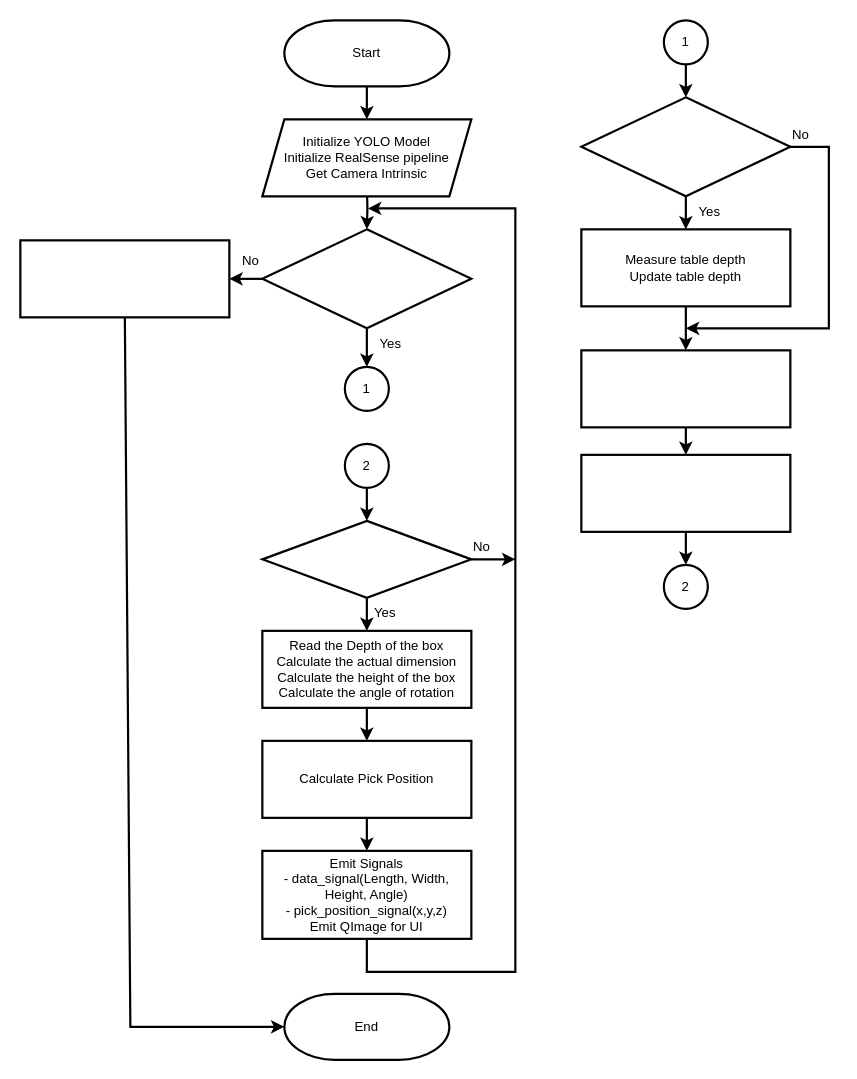
Image size: 857x1079. Some labels were removed from this diagram. The shapes that lost their labels are listed below. From the top down, each one's centre as x and y in pixels, then its label:
(x=685, y=146): Calibrate depth table?
(x=124, y=278): pipeline.stop()
(x=366, y=278): While running == True
(x=685, y=388): Get Color Frame + Depth Frame Align Depth according to color
(x=685, y=492): Detect Contour in BoundingBox
(x=366, y=558): In ROI?
